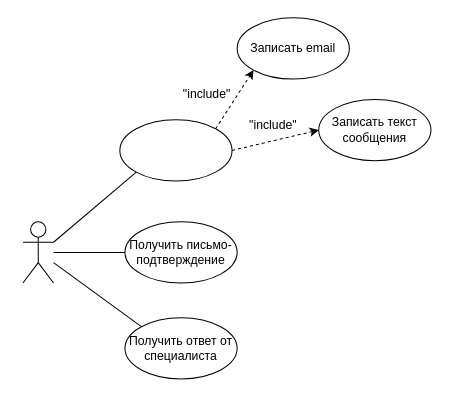
This 449x397 diagram has some shape labels left out. Each missing label, with the centre of its shape:
Клиент: the point at 38,252
Отправить обращение: the point at 175,150
